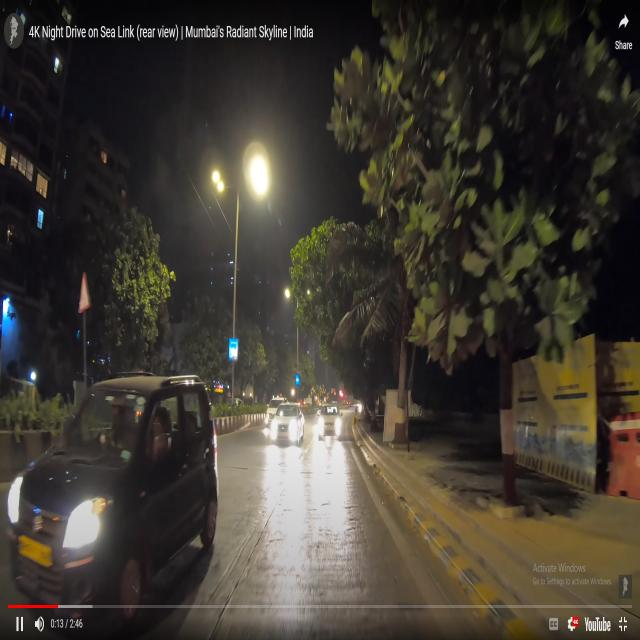headlights: (1, 461, 108, 565), (267, 418, 306, 444), (314, 416, 346, 438)
